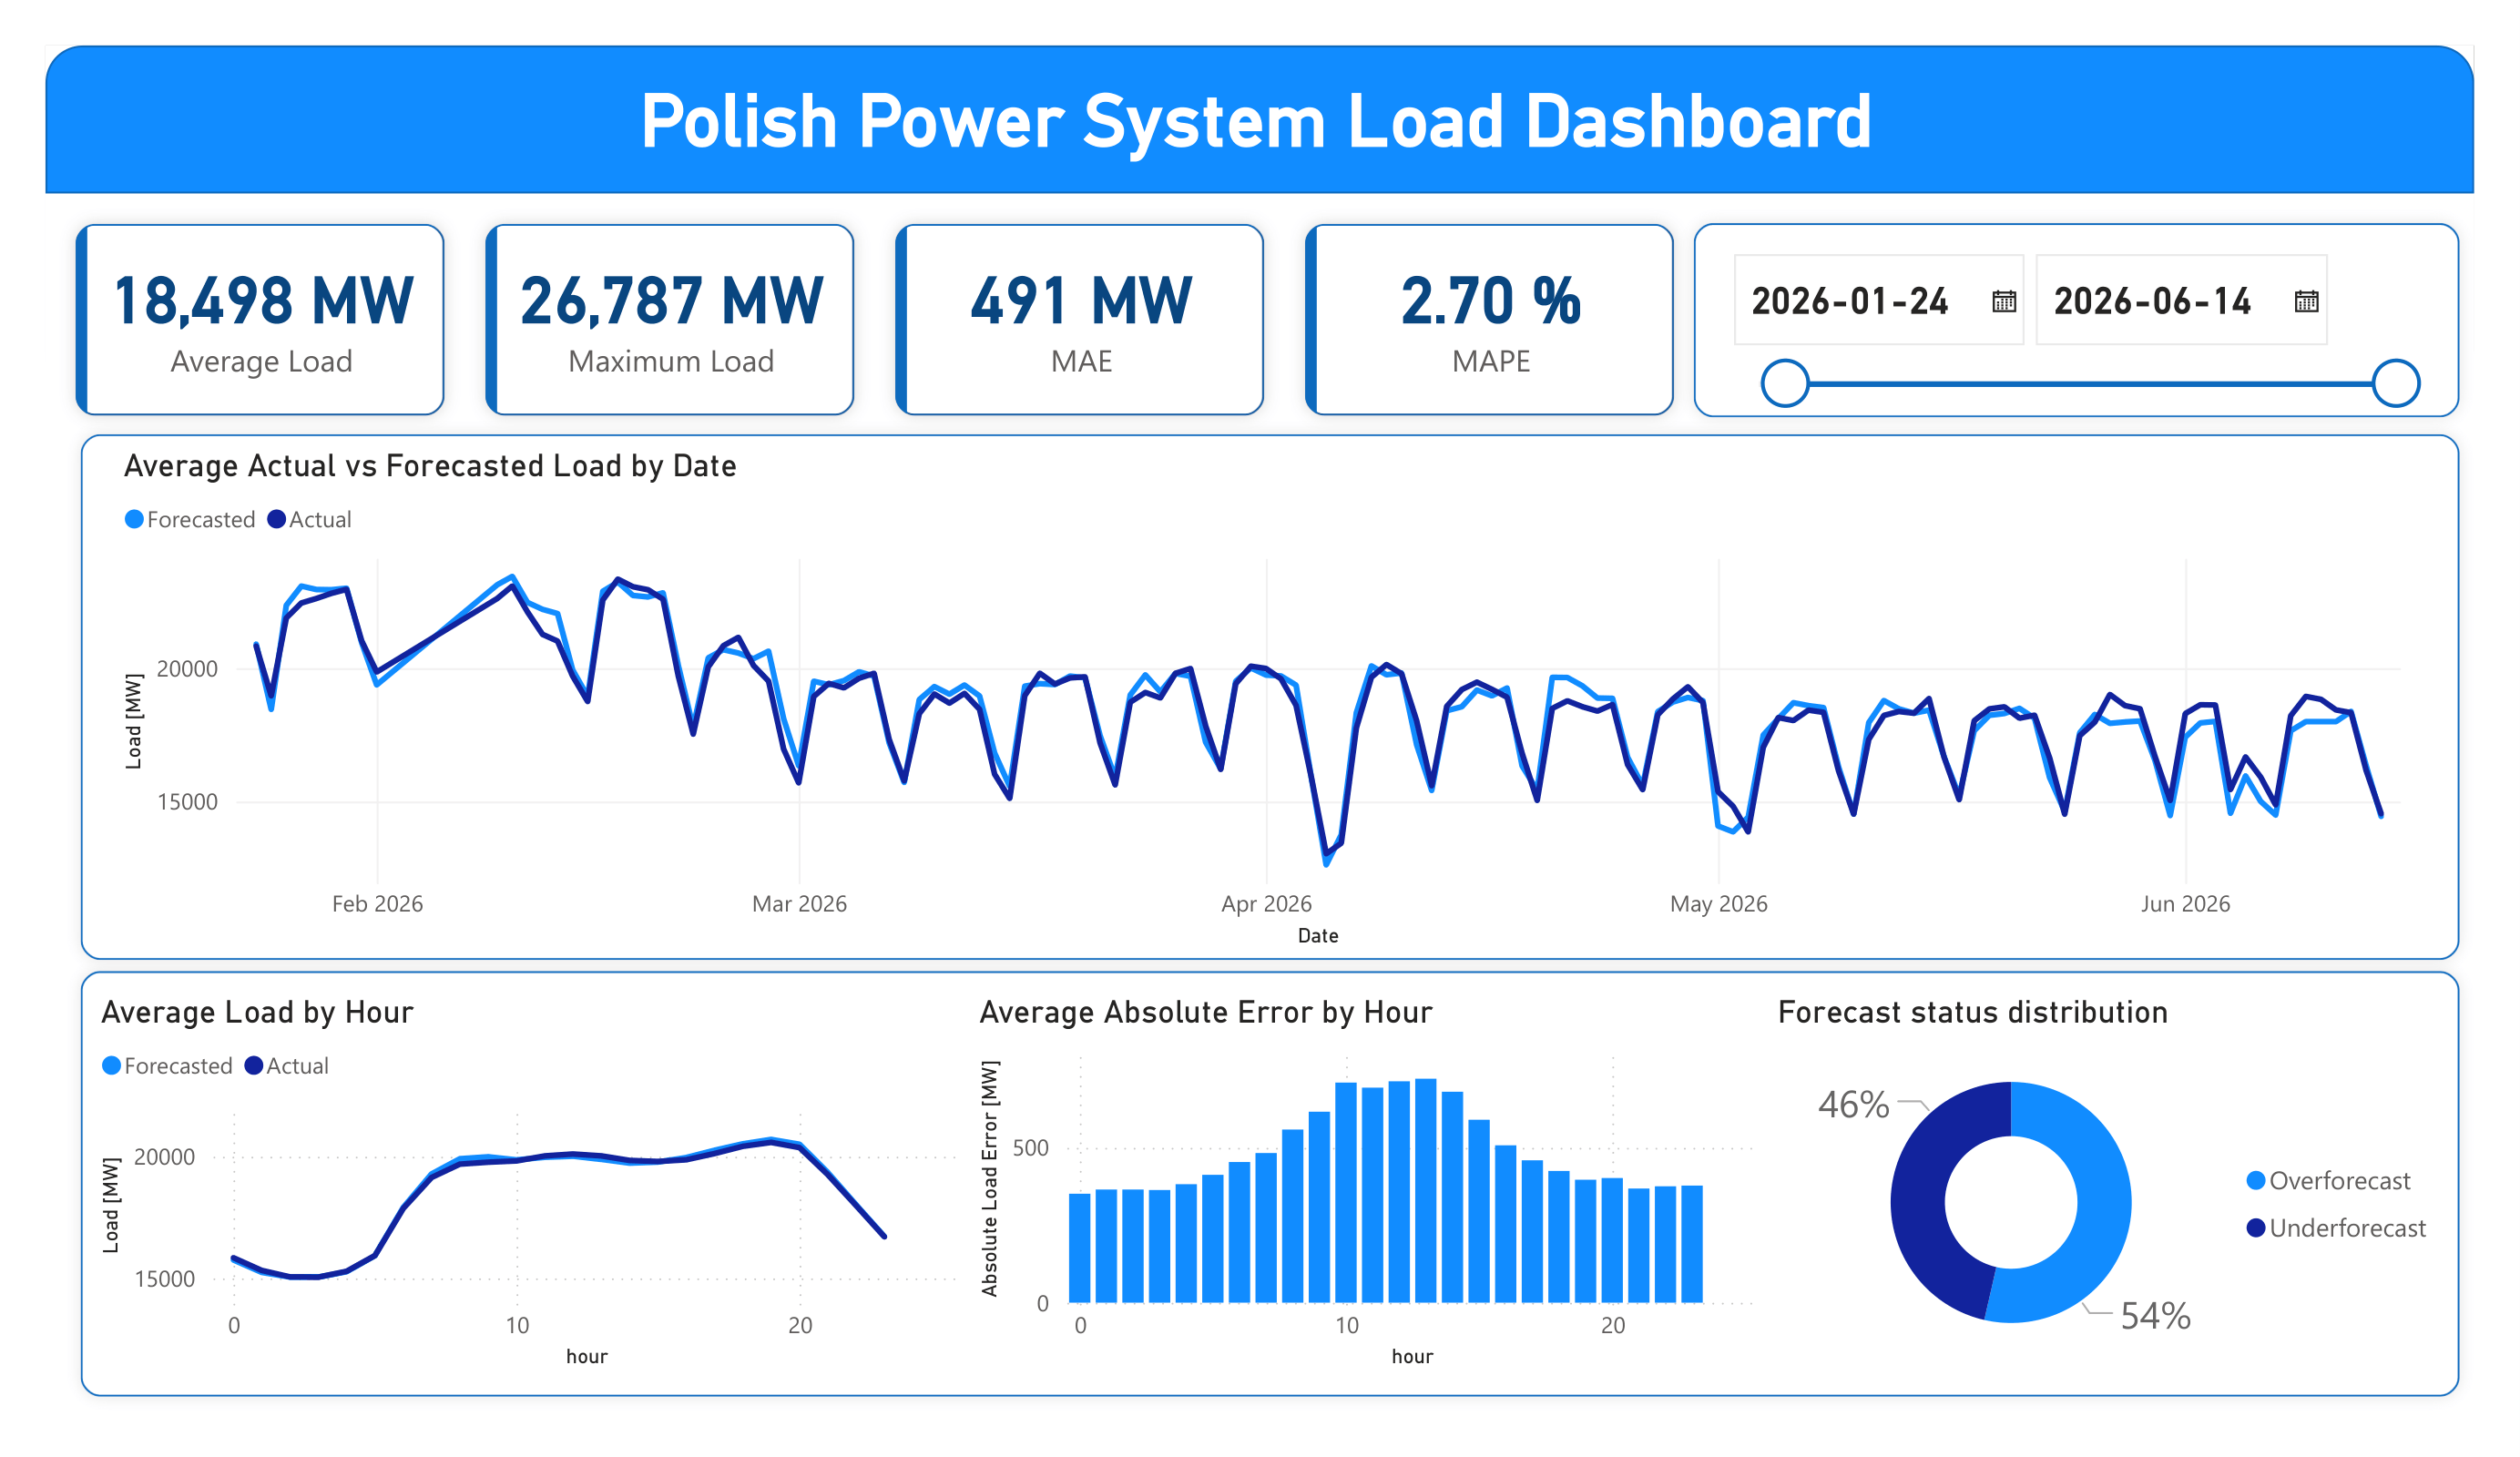

This screenshot's page, from the dashboard's own definition file:
{"tool":"powerbi","page":{"name":"Page 1","canvas":[1280,720],"ordinal":0},"visuals":[{"type":"shape","box":[11.1,480,1268.9,240],"z":0},{"type":"cardVisual","fields":{"Data":["Avg(public fact_power_system_load.actual_load_mw)","Max(public fact_power_system_load.actual_load_mw)1","Avg(public fact_power_system_load.absolute_error_mw)","Avg(public fact_power_system_load.absolute_percentage_error)"]},"box":[0,77.8,877.1,133.6],"z":1000},{"type":"shape","box":[11.1,196.7,1268.9,293.3],"z":2000},{"type":"shape","box":[861.1,85.6,418.9,118.9],"z":3000},{"type":"shape","box":[0,0,1279.8,77.8],"z":4000},{"type":"lineChart","title":"Average Actual vs Forecasted Load by Date","fields":{"Y":["Avg(public fact_power_system_load.forecasted_load_mw)","Avg(public fact_power_system_load.actual_load_mw)"],"Category":["public fact_power_system_load.datetime.Variation.Date Hierarchy.Year","public fact_power_system_load.datetime.Variation.Date Hierarchy.Quarter","public fact_power_system_load.datetime.Variation.Date Hierarchy.Month","public fact_power_system_load.datetime.Variation.Date Hierarchy.Day"]},"box":[35.6,211.1,1224.4,268.9],"z":5000},{"type":"lineChart","title":"Average Load by Hour","fields":{"Category":["public fact_power_system_load.hour"],"Y":["Avg(public fact_power_system_load.forecasted_load_mw)","Avg(public fact_power_system_load.actual_load_mw)"]},"box":[24.4,498.9,462.2,203.3],"z":6000},{"type":"clusteredColumnChart","title":"Average Absolute Error by Hour","fields":{"Category":["public fact_power_system_load.hour"],"Y":["Avg(public fact_power_system_load.absolute_error_mw)"]},"box":[486.7,498.9,421.1,203.3],"z":7000},{"type":"donutChart","title":"Forecast status distribution","fields":{"Category":["public fact_power_system_load.forecast_status"],"Y":["CountNonNull(public fact_power_system_load.forecast_status)"]},"box":[907.8,498.9,361.1,203.3],"z":8000},{"type":"slicer","fields":{"Values":["public fact_power_system_load.date"]},"box":[877,99.6,383,93],"z":9000},{"type":"textbox","box":[35.6,12.2,1215.6,57.8],"z":10000}]}

Visuals, with their boxes on the page's 1280x720 design canvas (x1, y1, x2, y2). These are canvas units, not pixel positions in the 2520x1457 screenshot, which may show the page scaled, cropped or inside an application window:
shape: 11/480/1280/720
cardVisual - Avg(public fact_power_system_load.actual_load_mw) x Max(public fact_power_system_load.actual_load_mw)1: 0/78/877/211
shape: 11/197/1280/490
shape: 861/86/1280/204
shape: 0/0/1280/78
"Average Actual vs Forecasted Load by Date" lineChart: 36/211/1260/480
"Average Load by Hour" lineChart: 24/499/487/702
"Average Absolute Error by Hour" clusteredColumnChart: 487/499/908/702
"Forecast status distribution" donutChart: 908/499/1269/702
slicer - public fact_power_system_load.date: 877/100/1260/193
textbox: 36/12/1251/70
